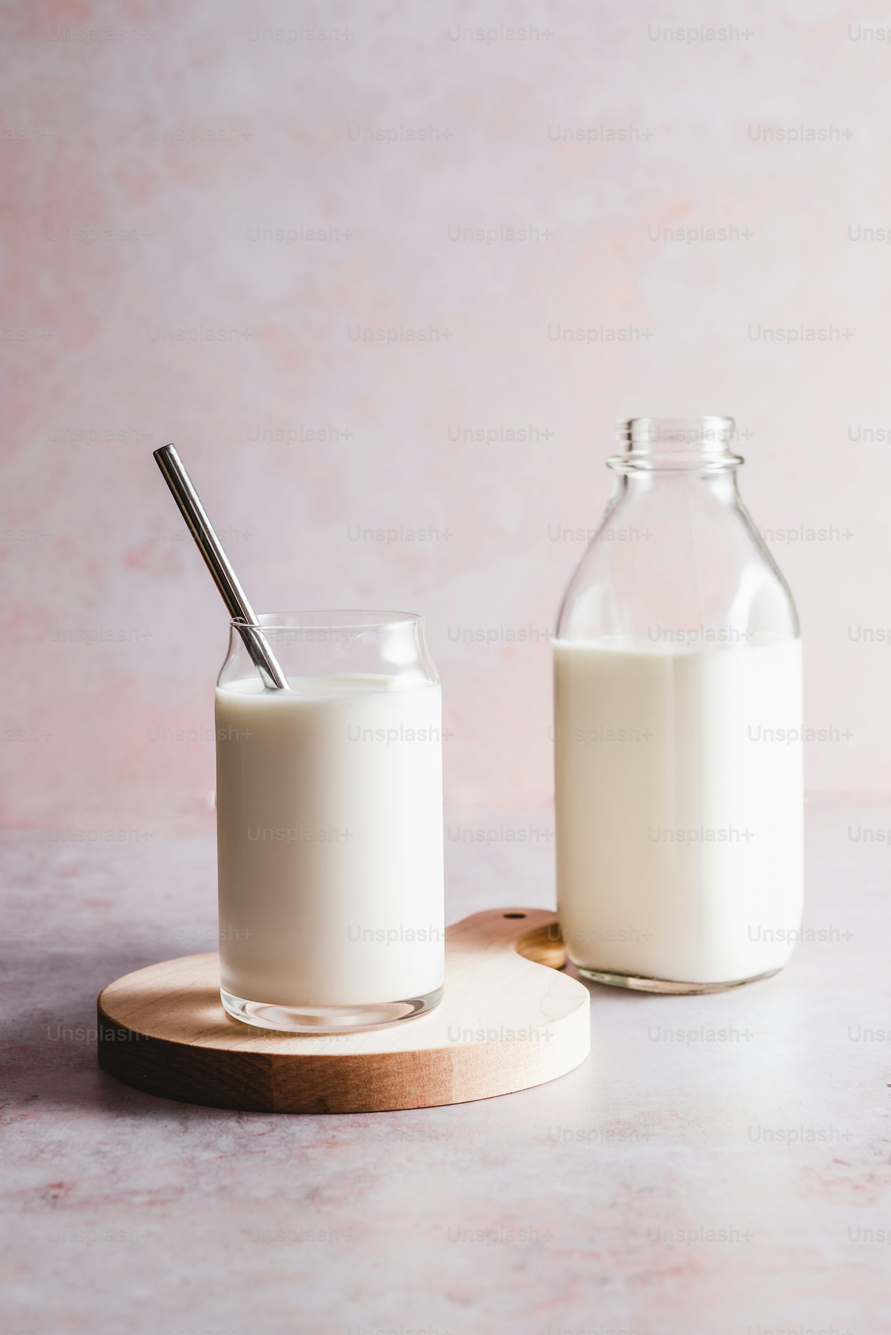produk_susu: (578, 443, 802, 982), (232, 616, 433, 1052)
